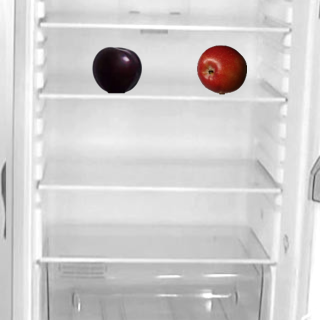Apple Braeburn: (196, 44, 246, 94)
Cherry Wax Black: (91, 44, 141, 94)
